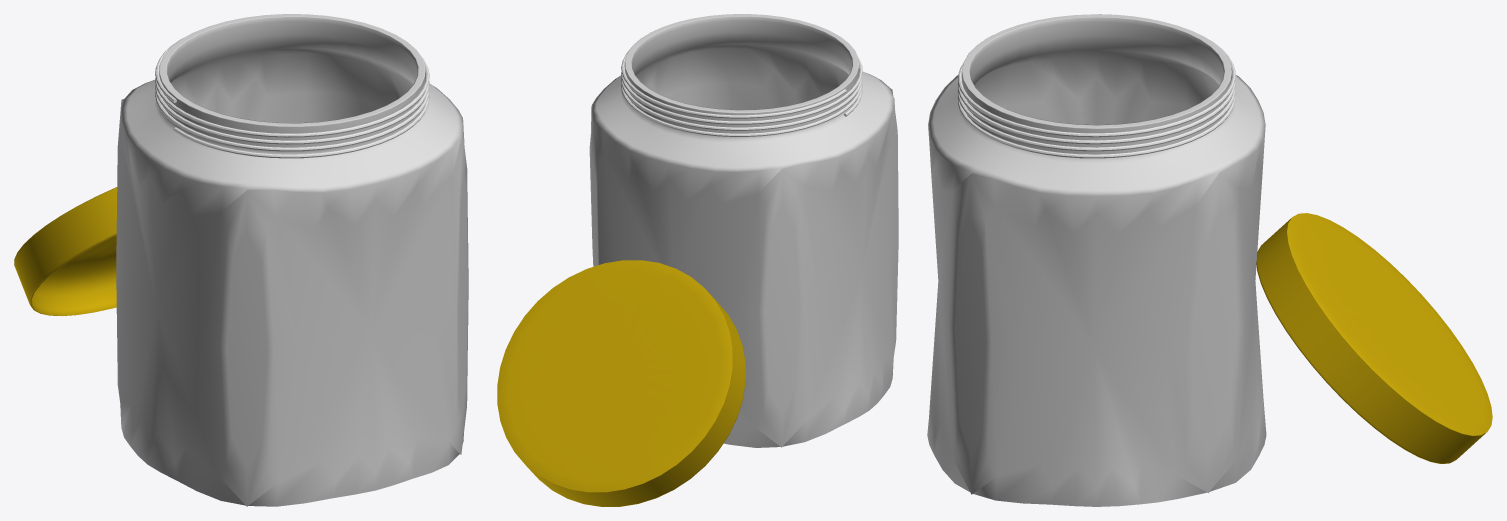
File: Jar.FBX.fbx
The picture shows the model from 3 angles, left to right: view 1: azimuth 30°, elevation 25°; view 2: azimuth 150°, elevation 25°; view 3: azimuth 270°, elevation 25°; orthographic projection. The views are drawn at different scales.
Visible parts, largest first — view 1: Jar, Cap, Ring; view 2: Jar, Cap, Ring; view 3: Jar, Cap, Ring.
Boxes of the visible parts, left/top/right/bottom form: Jar: left=116, top=14, right=468, bottom=506; Cap: left=14, top=187, right=117, bottom=316; Ring: left=155, top=39, right=429, bottom=158; Jar: left=589, top=14, right=898, bottom=447; Cap: left=497, top=260, right=745, bottom=506; Ring: left=621, top=48, right=862, bottom=136; Jar: left=927, top=14, right=1266, bottom=506; Cap: left=1256, top=213, right=1492, bottom=463; Ring: left=958, top=14, right=1235, bottom=158.
Size of the model in its own units: 2.06 by 2.52 by 3.44.
